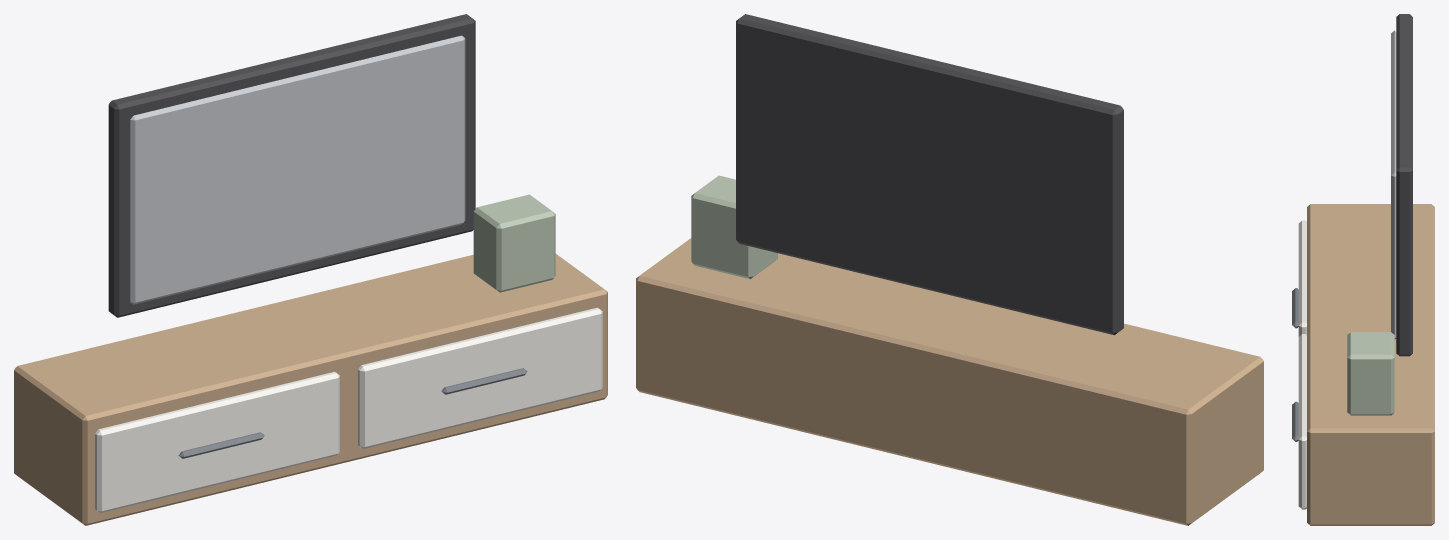
Rendered from FloatingMediaUnit.glb.
3 views of the same model, side by side, from view 1: azimuth 30°, elevation 25°; view 2: azimuth 150°, elevation 25°; view 3: azimuth 270°, elevation 25° (orthographic). The views are drawn at different scales.
Parts seen in each view (by area): view 1: SpaceSaver_FloatingMediaUnit; view 2: SpaceSaver_FloatingMediaUnit; view 3: SpaceSaver_FloatingMediaUnit.
Part boxes in pixels (bbox=[...]): SpaceSaver_FloatingMediaUnit: bbox=[14, 14, 607, 525]; SpaceSaver_FloatingMediaUnit: bbox=[636, 14, 1263, 525]; SpaceSaver_FloatingMediaUnit: bbox=[1292, 14, 1434, 525].
Bounding box in the file's own units: 1.6 × 1.06 × 0.4245.
